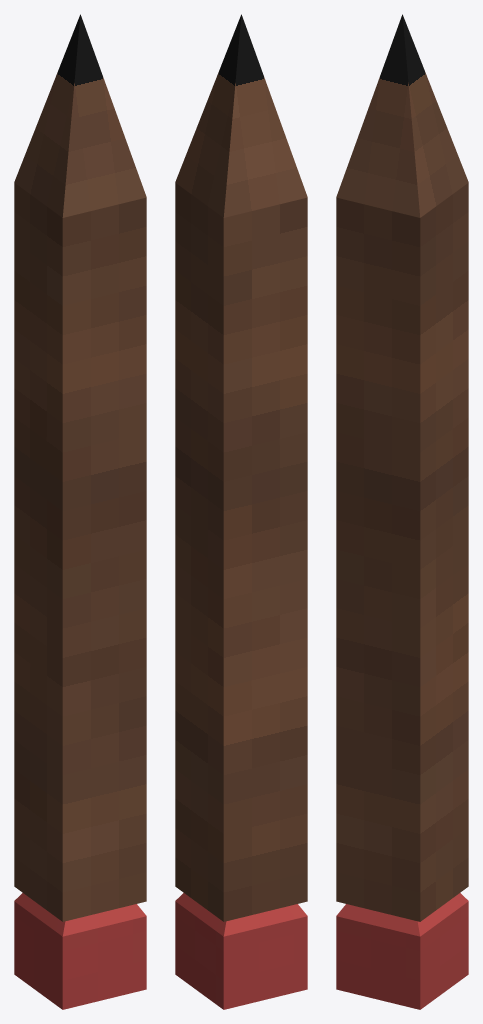
File: pencil.gltf
3 renders of one model, left to right at view 1: azimuth 30°, elevation 25°; view 2: azimuth 210°, elevation 25°; view 3: azimuth 330°, elevation 25°, orthographic.
Visible parts, largest first — view 1: pyramid; view 2: pyramid; view 3: pyramid.
Boxes of the visible parts, x1,y1,x2,y2 form: pyramid: (14, 14, 146, 1009); pyramid: (175, 14, 307, 1009); pyramid: (336, 14, 468, 1009).
Size of the model in its own units: 0.1875 by 2.06 by 0.1875.
Materials: 2 (2 with a texture image).
